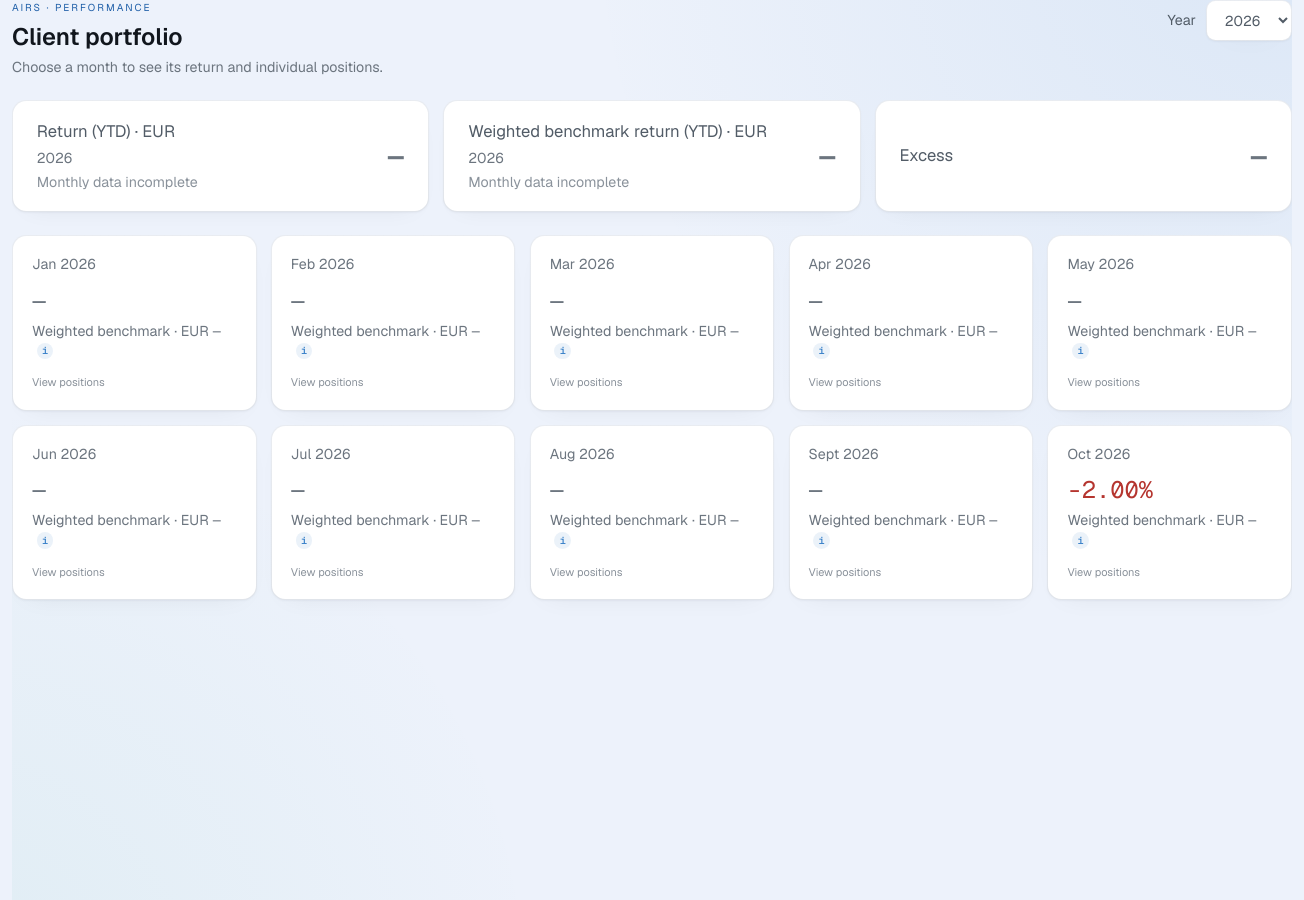
Scenario: AIRS monthly report › shows the actual contribution calculation and dated trades in its info popover
This screenshot has width=1304, height=900.
Step 1. Click the button "Oct 2026 -2.00% Weighted benchmark · EUR — i View positions" → (1170, 512), box [1047,425,1292,600]
(page scrolled)
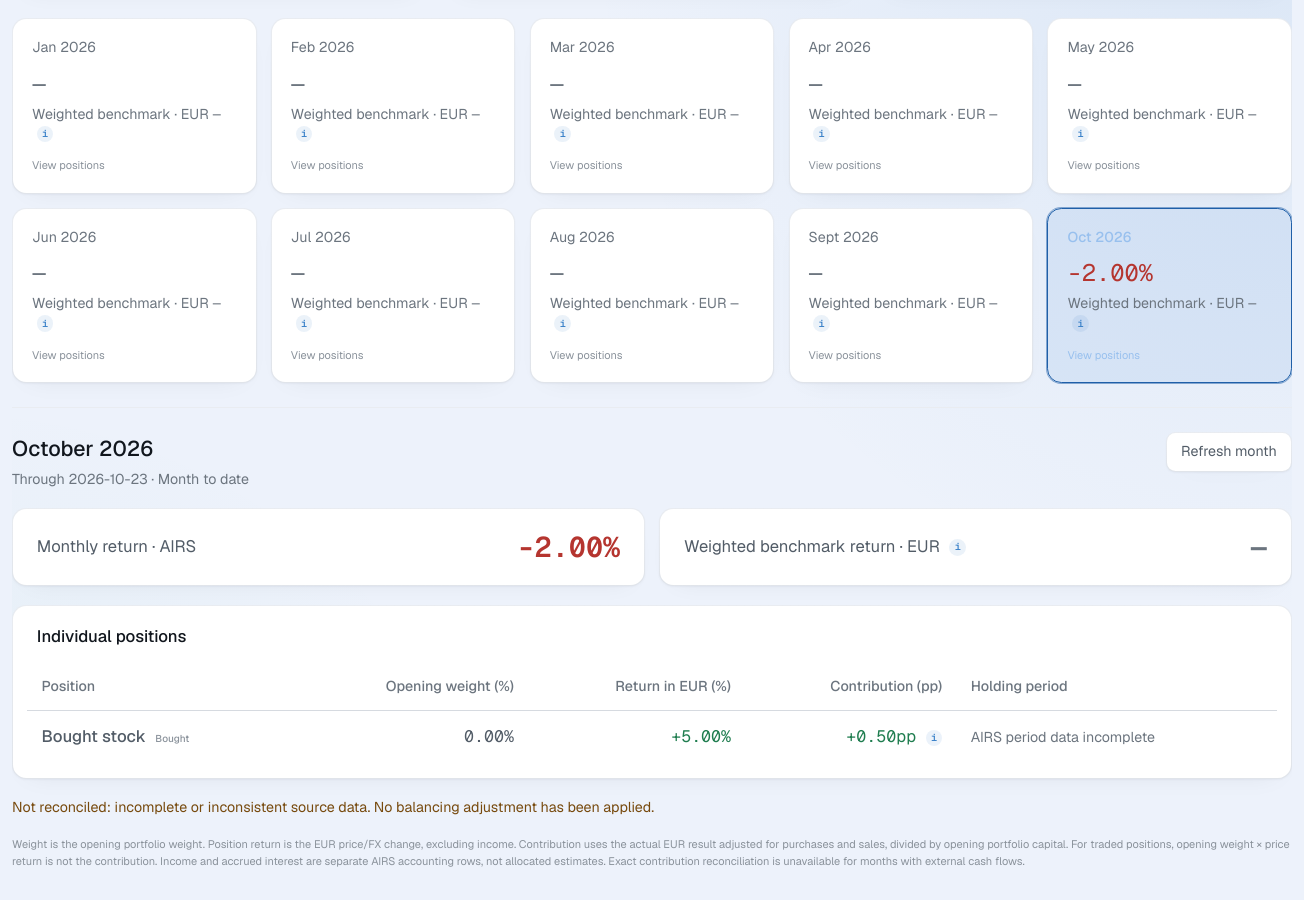
Step 2. Click the text "i" next to "+0.50pp" → (934, 738), box [926,730,942,746]
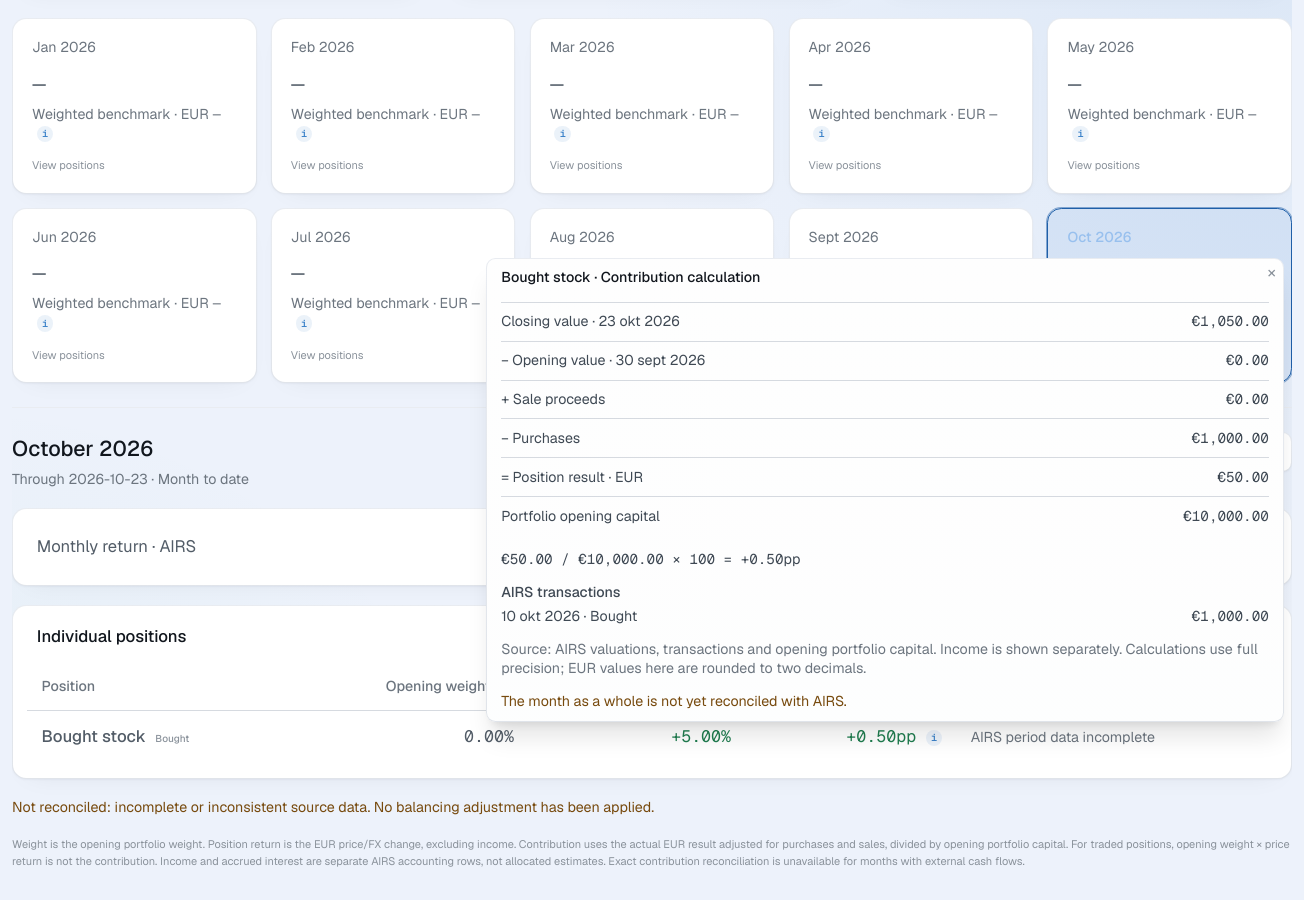
Result: the text "Contribution calculation" is shown at [601,268,760,286]
Result: the text "− Purchases" is shown at [501,419,1056,458]
Result: the text "€50.00 / €10,000.00 × 100 = +0.50pp" is shown at [501,550,801,568]
